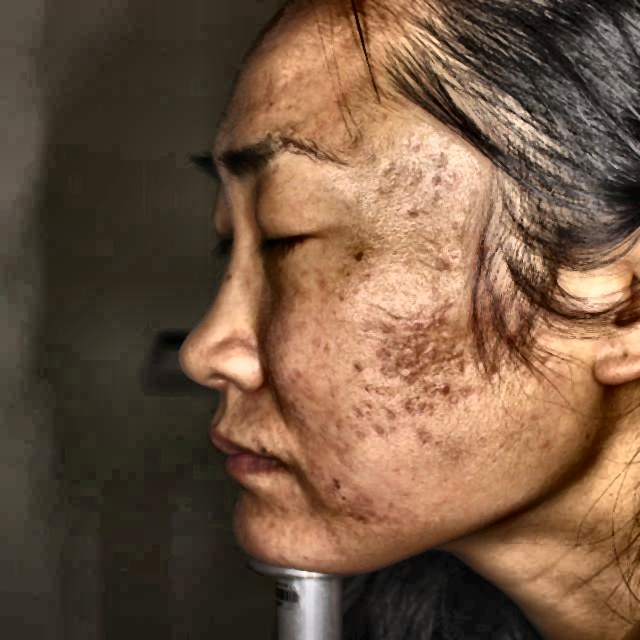pustule: (429, 378, 468, 408), (394, 354, 429, 386), (401, 201, 434, 228), (289, 377, 317, 398), (412, 323, 435, 346), (437, 253, 456, 278)
